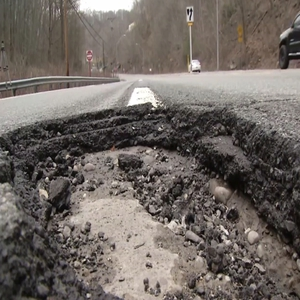pothole: (1, 100, 296, 300)
